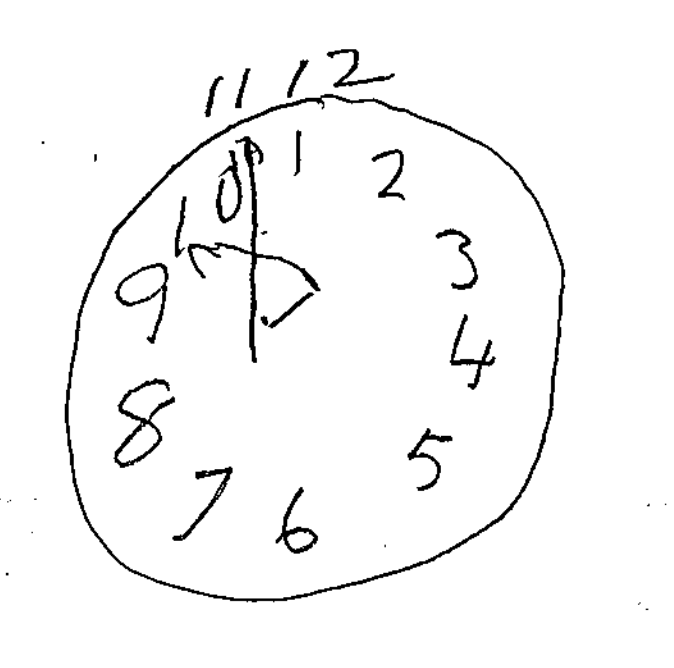1: (284, 124, 309, 179)
10: (171, 164, 242, 256)
11: (199, 64, 254, 118)
12: (279, 41, 396, 96)
2: (370, 141, 412, 206)
3: (435, 221, 481, 295)
4: (448, 315, 498, 393)
5: (405, 424, 456, 497)
6: (271, 483, 322, 557)
7: (171, 459, 234, 544)
8: (109, 374, 177, 470)
9: (113, 259, 178, 348)
contour: (57, 94, 571, 610)
